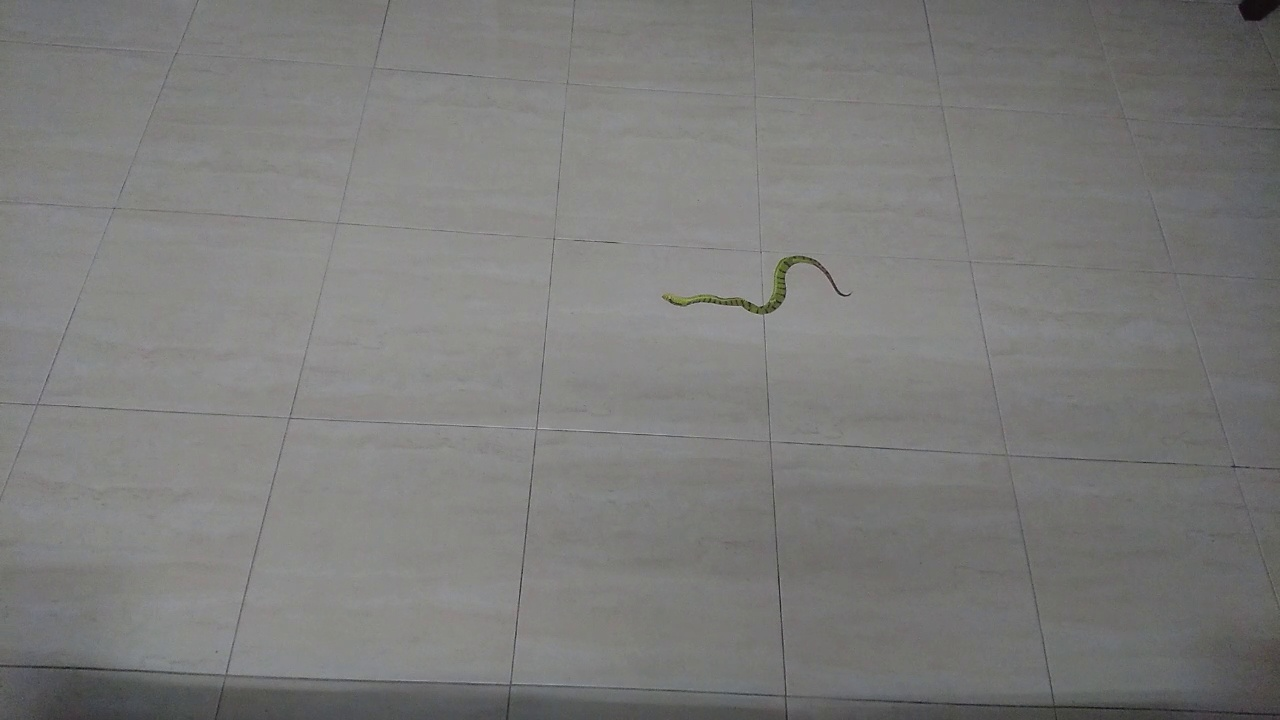snake: (647, 236, 868, 333)
